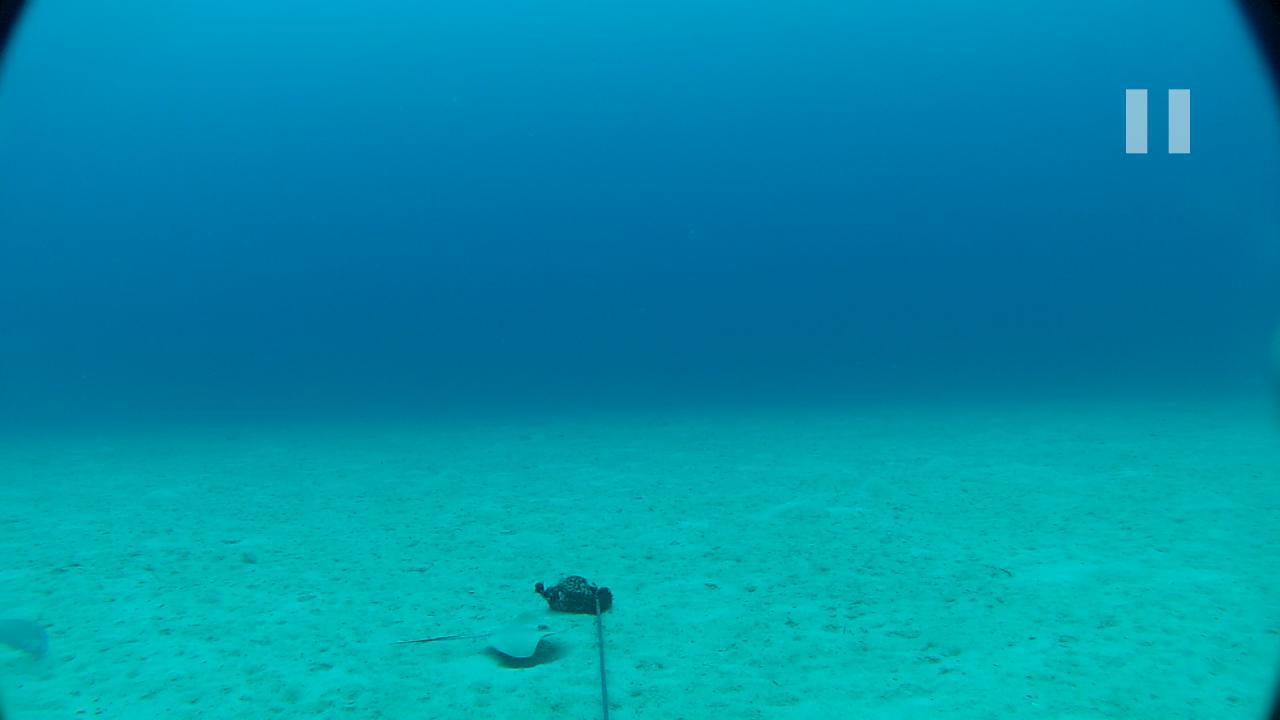dasyatis: (393, 610, 568, 659)
